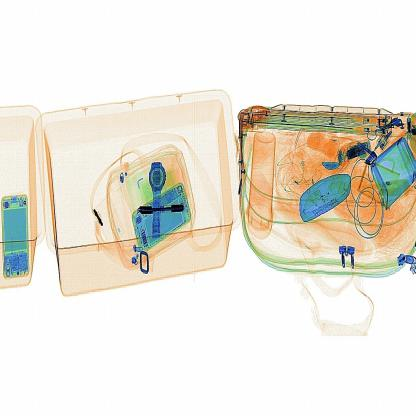knife: (135, 198, 192, 223)
